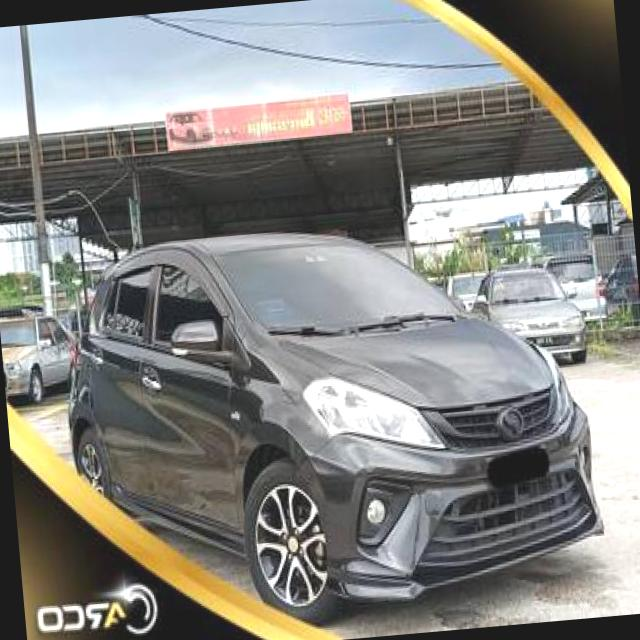PeroduaMyvi: (52, 199, 613, 640)
